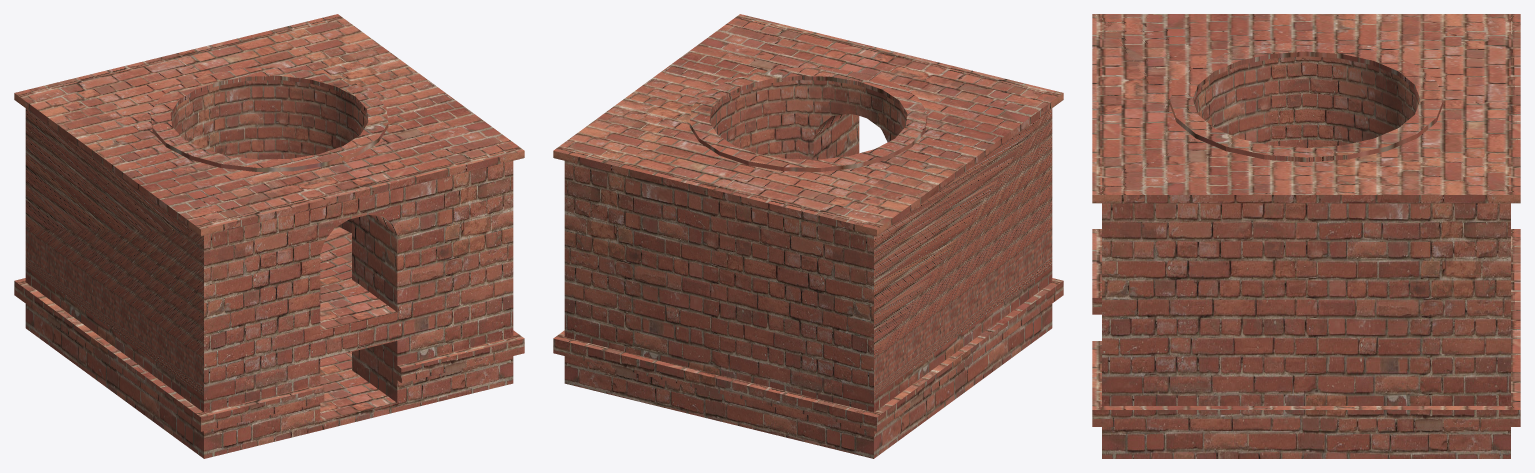
Rendered from Kiln.fbx.
The picture shows the model from 3 angles, left to right: view 1: azimuth 30°, elevation 25°; view 2: azimuth 150°, elevation 25°; view 3: azimuth 270°, elevation 25°; orthographic projection. The views are drawn at different scales.
Parts seen in each view (by area): view 1: Kiln; view 2: Kiln; view 3: Kiln.
Part boxes in pixels (x1,y1,x2,y2): Kiln: (14, 14, 524, 458); Kiln: (553, 14, 1063, 458); Kiln: (1092, 14, 1520, 458).
Size of the model in its own units: 1.05 by 0.736 by 1.05.
1 material, 1 textured.
